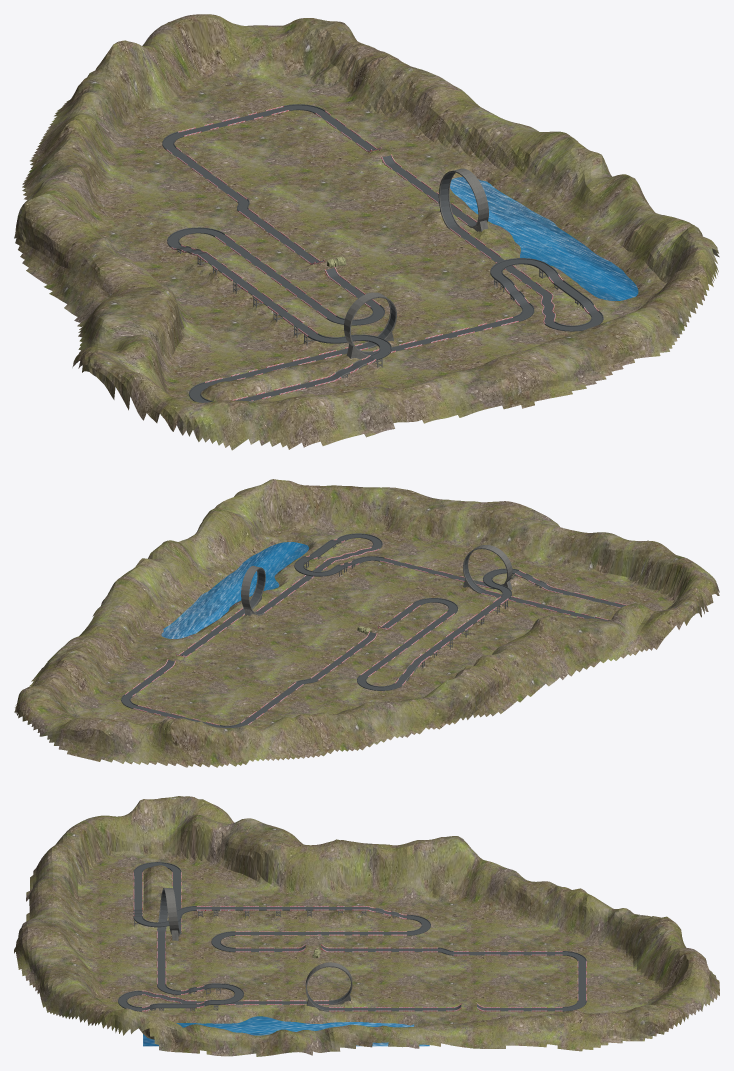
Rendered from track.fbx.
3 renders of one model, top to bottom at view 1: azimuth 30°, elevation 25°; view 2: azimuth 150°, elevation 25°; view 3: azimuth 270°, elevation 25°, orthographic. The views are drawn at different scales.
Visible parts, largest first — view 1: levelGeometry; view 2: levelGeometry; view 3: levelGeometry.
Part boxes in pixels (x1,y1,x2,y2): levelGeometry: [14, 14, 719, 450]; levelGeometry: [14, 479, 719, 767]; levelGeometry: [14, 796, 719, 1056].
Size of the model in its own units: 26863 by 34252 by 3036.
